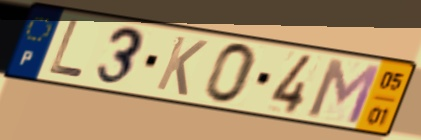0: (200, 42, 263, 106)
3: (92, 24, 151, 89)
4: (266, 51, 313, 117)
K: (152, 33, 211, 99)
L: (46, 18, 86, 81)
M: (305, 55, 384, 127)
